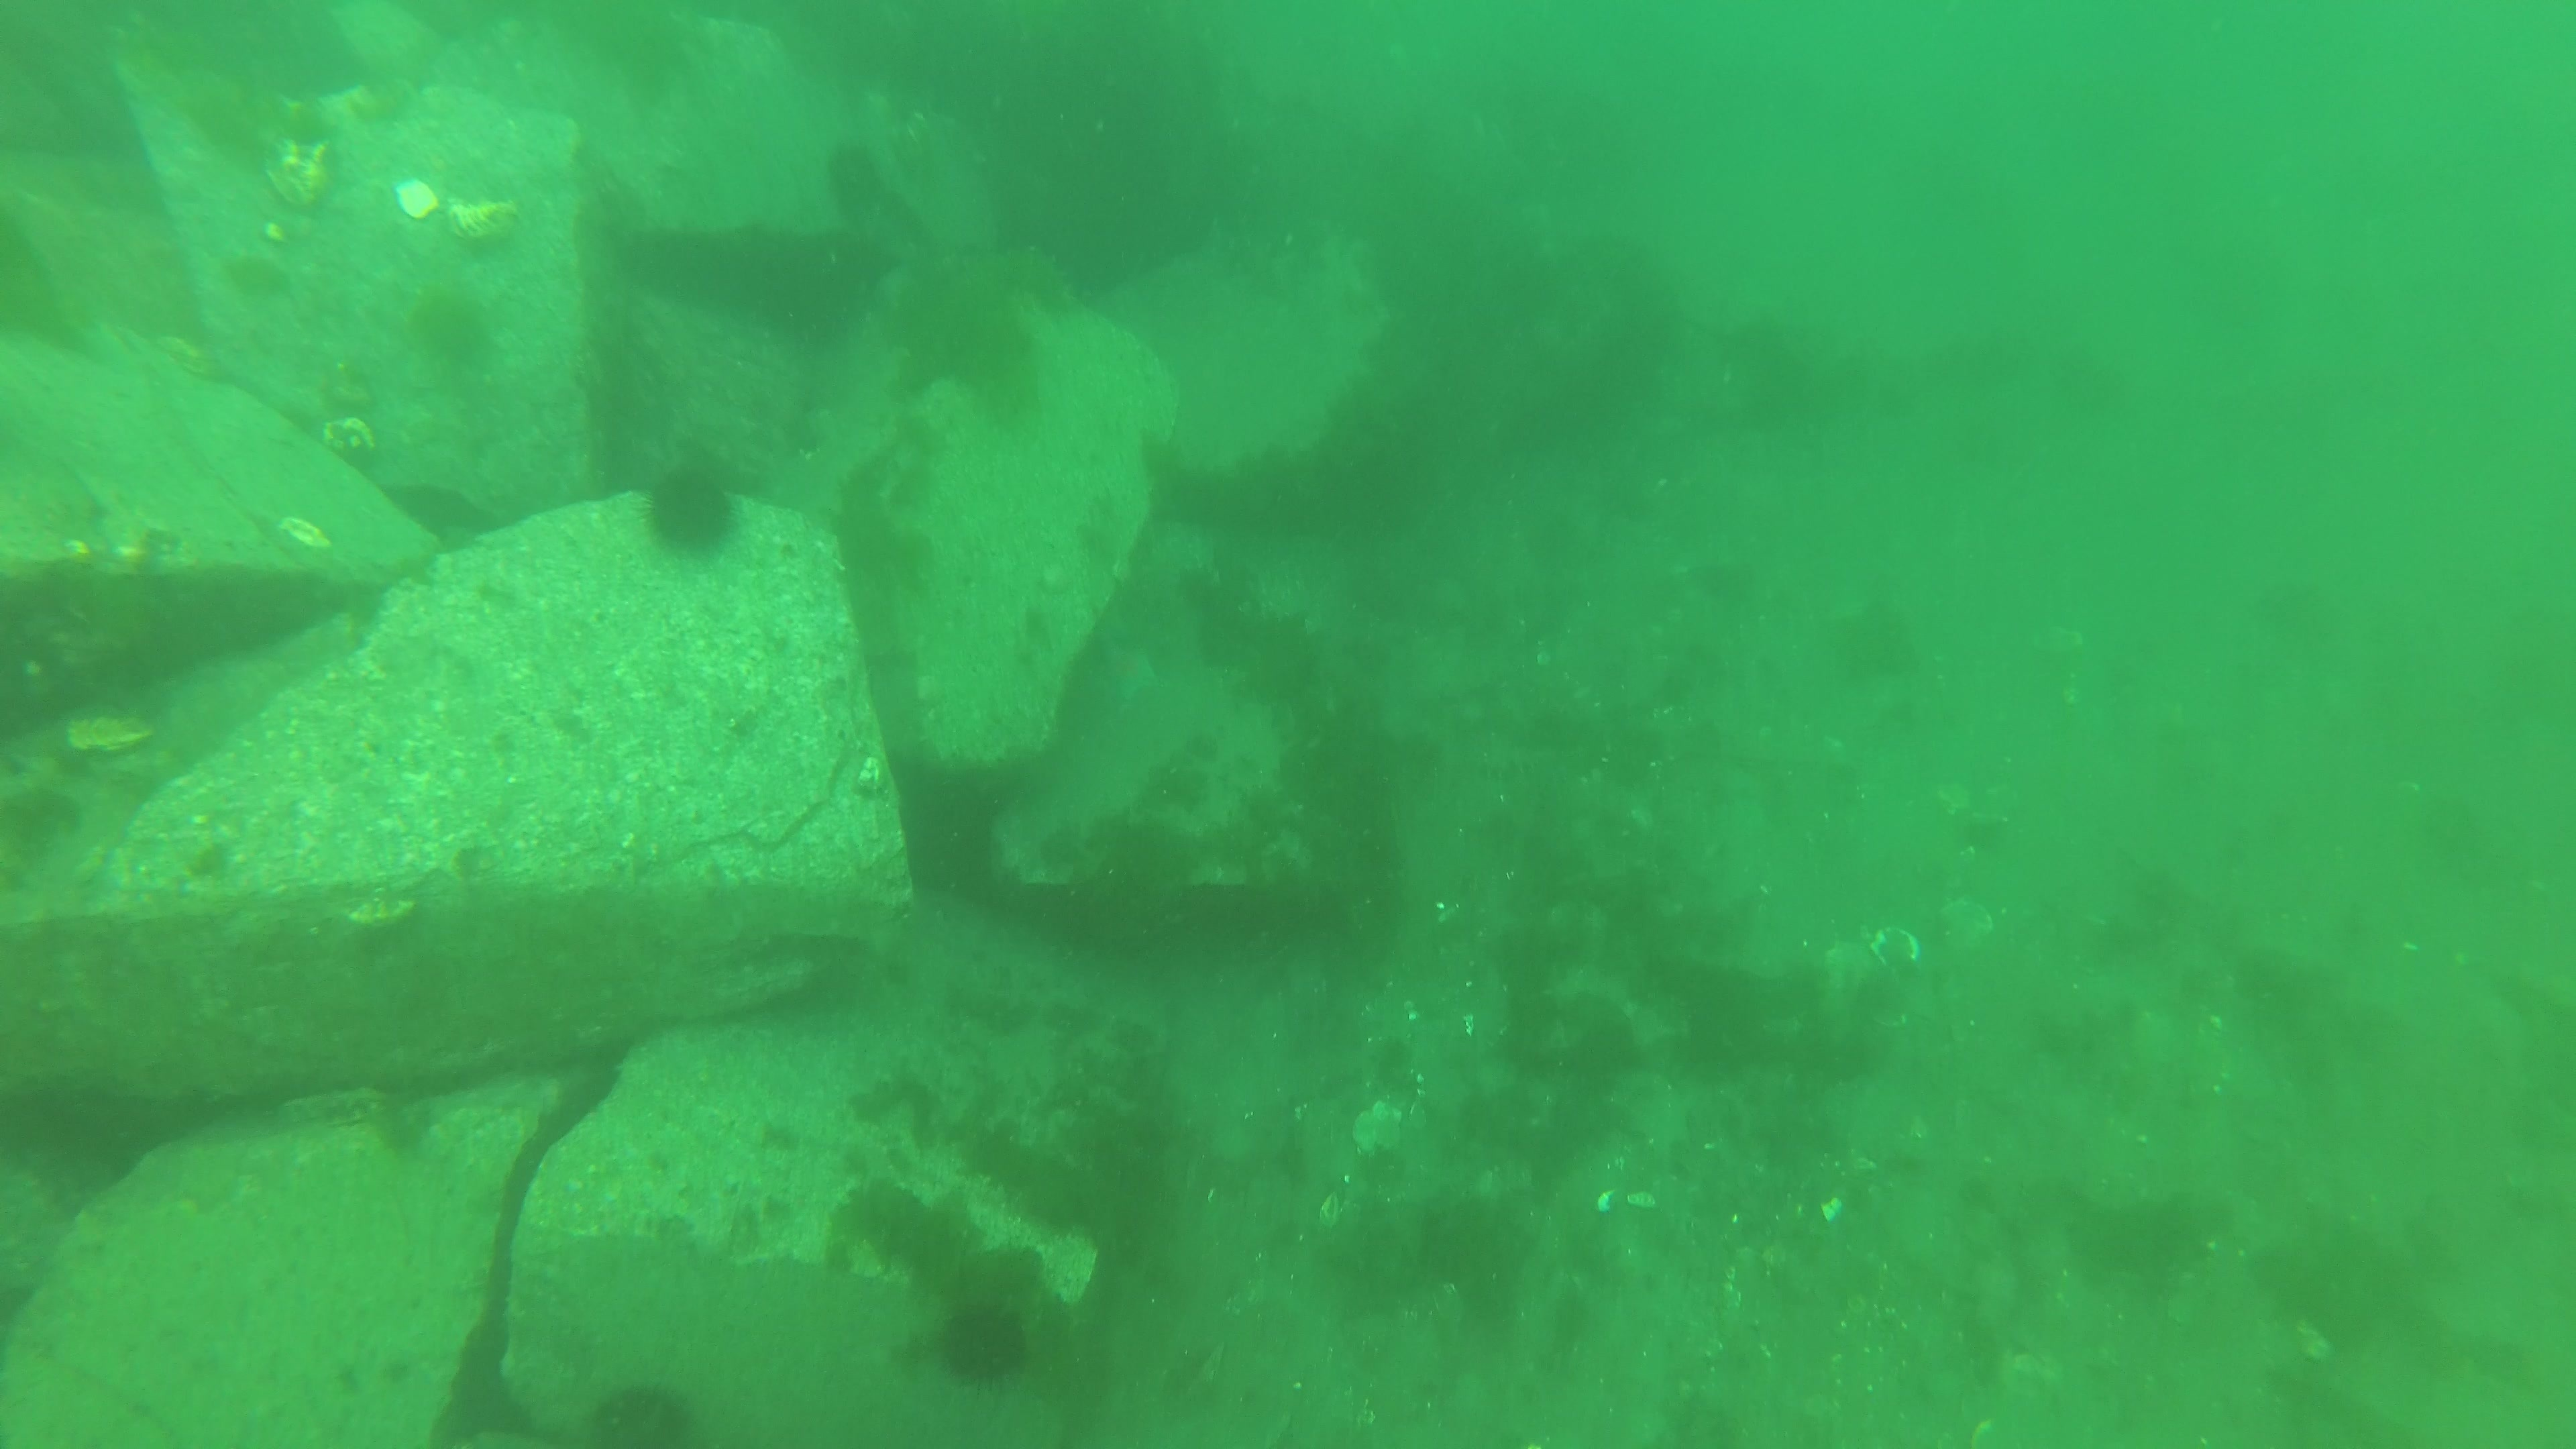echinus: (925, 1295, 1040, 1396), (640, 456, 747, 563), (571, 1376, 709, 1447)
